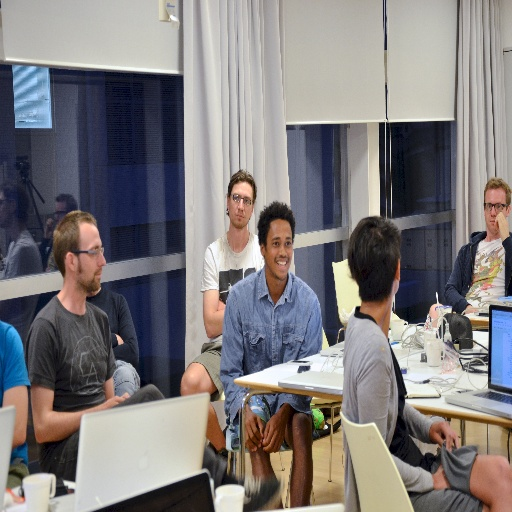hand: (260, 410, 288, 454), (429, 419, 461, 454), (244, 410, 265, 456), (434, 463, 450, 489), (494, 211, 509, 238), (101, 395, 124, 407), (465, 304, 477, 314)
